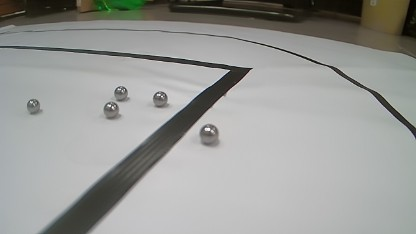ironball: (199, 123, 218, 144), (103, 101, 119, 118), (152, 91, 168, 107), (26, 98, 40, 114), (114, 86, 128, 101)
